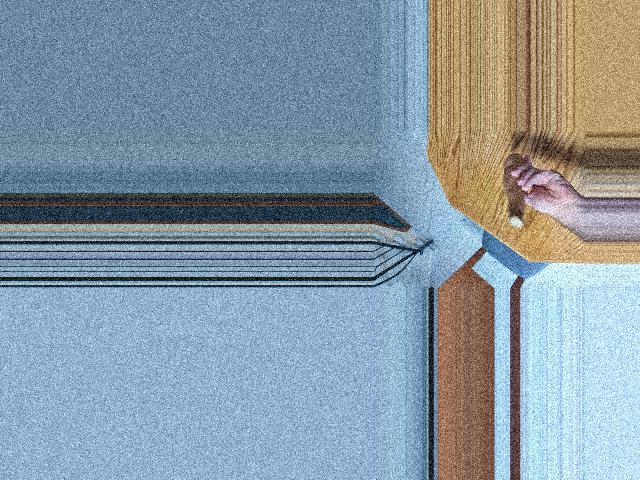sweet_potato: (502, 156, 531, 228)
